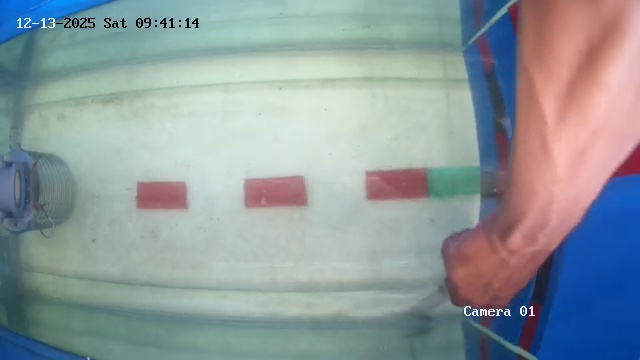fish: (401, 317, 445, 341)
